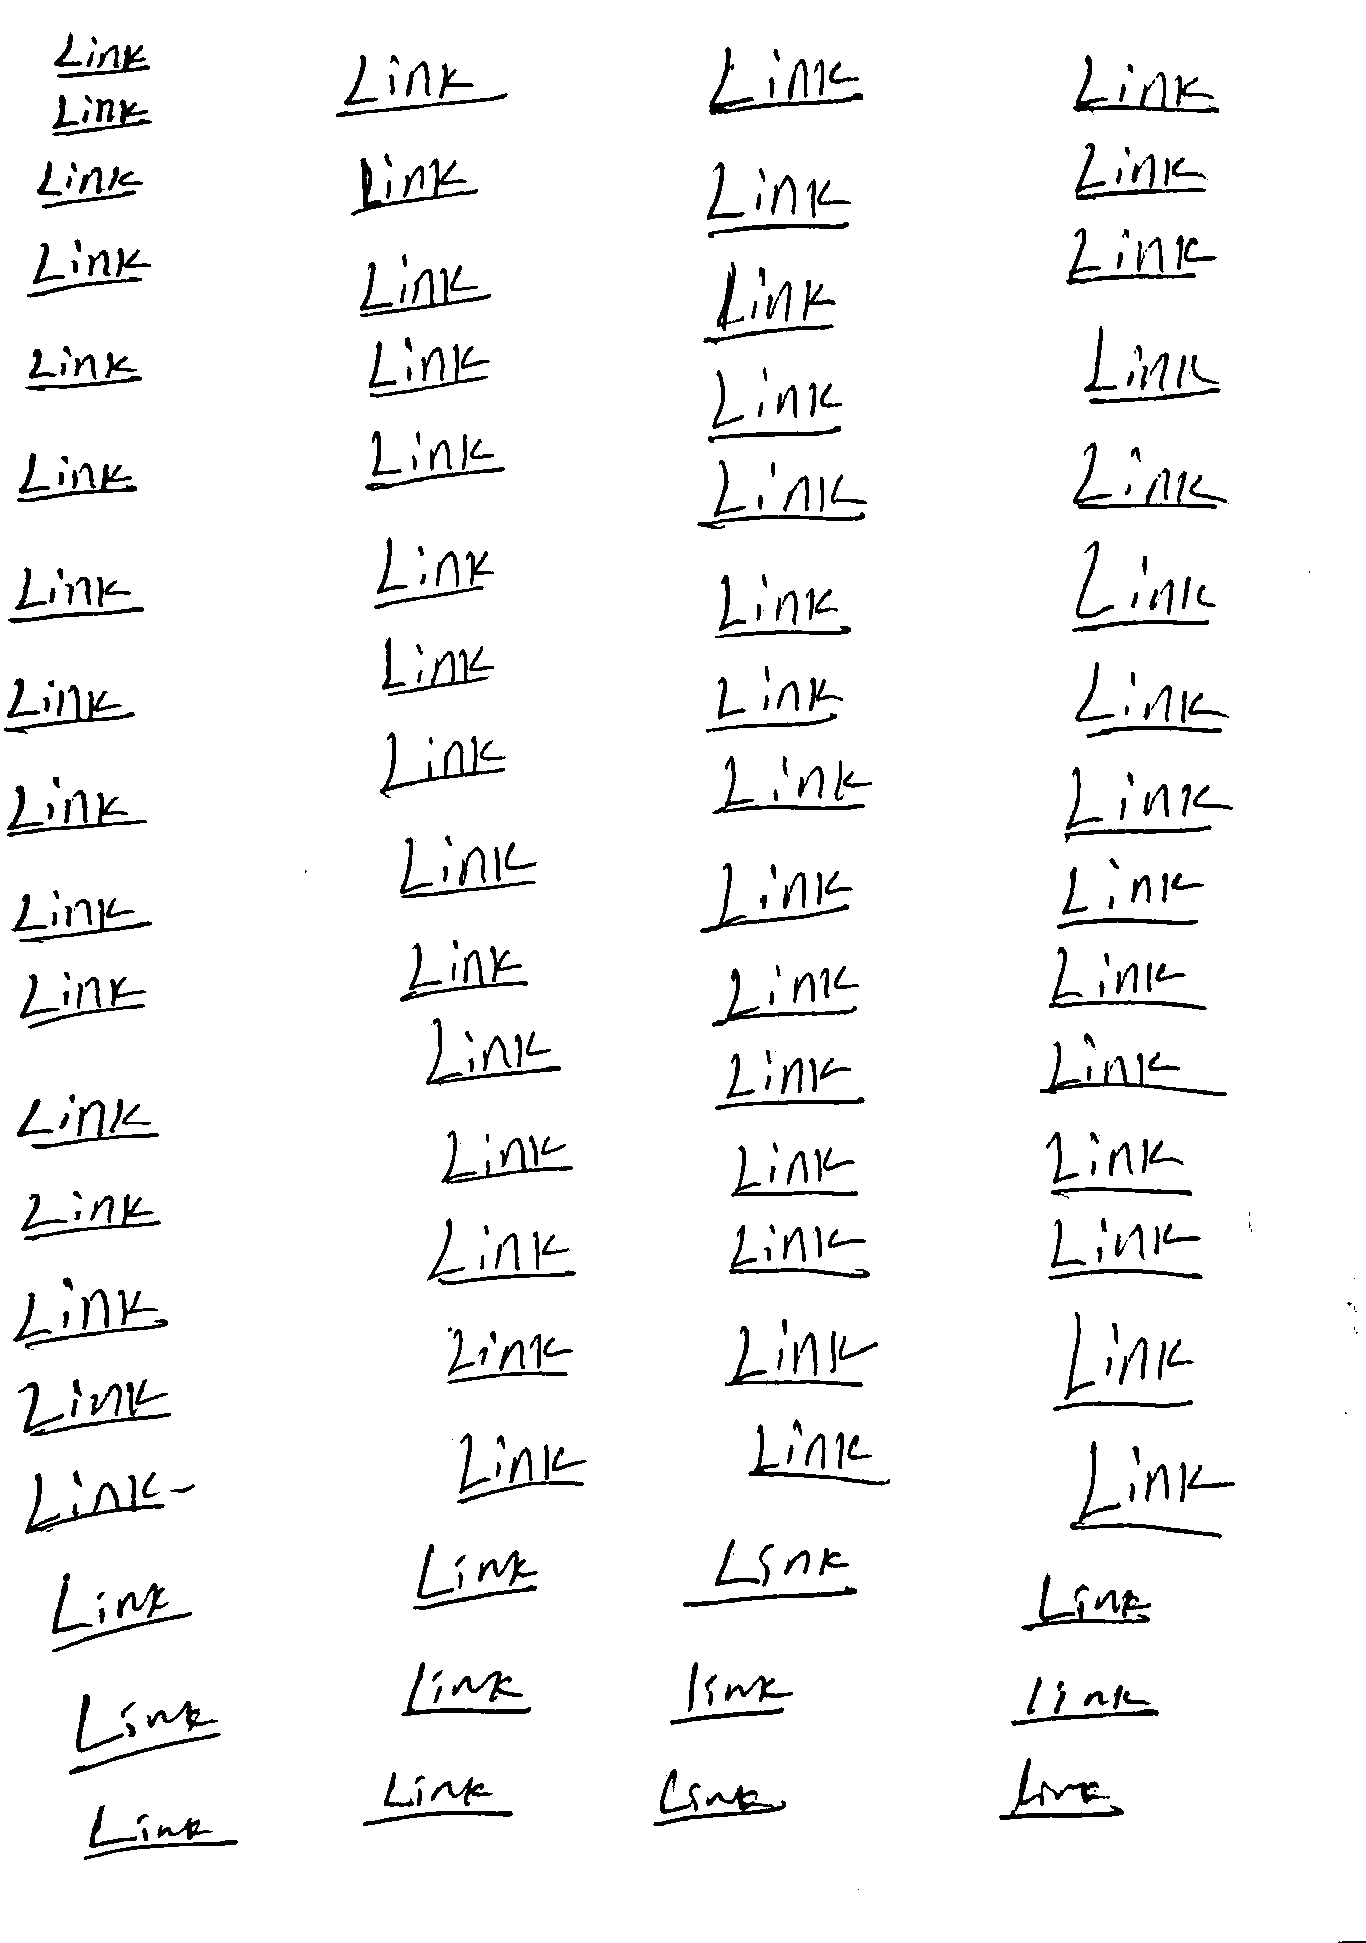Link: (1061, 1436, 1234, 1544), (1050, 1305, 1196, 1417), (1056, 757, 1236, 844), (1066, 536, 1220, 637), (677, 1532, 866, 1614), (693, 449, 872, 533), (1070, 658, 1231, 751), (38, 1563, 200, 1656), (67, 1686, 228, 1779), (707, 944, 866, 1037), (330, 44, 512, 126), (1036, 1024, 1223, 1102), (699, 850, 852, 944), (1064, 431, 1231, 517), (7, 1266, 171, 1350), (1039, 1204, 1203, 1288), (701, 157, 856, 244), (1041, 935, 1206, 1017), (696, 256, 843, 347), (701, 356, 847, 448), (701, 38, 871, 117), (16, 1457, 171, 1543), (418, 1212, 584, 1291), (1041, 1116, 1195, 1201), (1079, 324, 1227, 411), (711, 748, 872, 827), (717, 1317, 883, 1393), (1051, 853, 1206, 932), (16, 1364, 171, 1444), (78, 1791, 244, 1865), (418, 1009, 565, 1092), (704, 1039, 863, 1114), (395, 827, 537, 912), (402, 1529, 546, 1612), (356, 421, 512, 496), (1059, 219, 1220, 291), (6, 767, 157, 844), (12, 952, 146, 1037), (452, 1421, 587, 1507), (356, 1761, 517, 1832), (702, 662, 844, 742), (396, 926, 520, 1017), (373, 720, 512, 799), (711, 569, 857, 644), (744, 1416, 888, 1491), (1002, 1667, 1169, 1732), (1066, 132, 1212, 205), (1, 882, 157, 952), (367, 532, 497, 615), (664, 1650, 795, 1732), (10, 1086, 164, 1155), (1069, 52, 1224, 120), (13, 1181, 169, 1249), (361, 331, 500, 406), (436, 1317, 577, 1390), (352, 251, 497, 322), (346, 143, 482, 219), (21, 229, 154, 306), (648, 1757, 786, 1829), (721, 1218, 872, 1284), (6, 557, 149, 626), (989, 1754, 1129, 1823), (395, 1653, 537, 1721), (1016, 1568, 1158, 1636), (1, 669, 135, 742), (436, 1121, 584, 1186), (729, 1130, 860, 1201), (373, 626, 492, 702), (10, 446, 146, 507), (16, 341, 146, 400), (30, 152, 146, 217), (47, 81, 157, 143), (46, 27, 157, 87)
